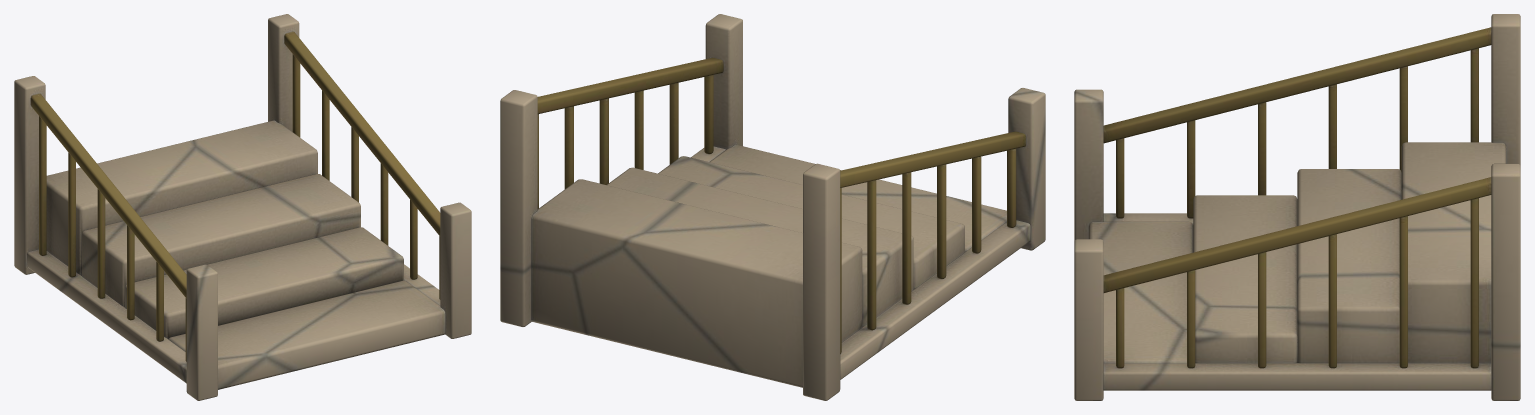
The model's file is marble_stairs.glb.
The picture shows the model from 3 angles, left to right: view 1: azimuth 30°, elevation 25°; view 2: azimuth 150°, elevation 25°; view 3: azimuth 270°, elevation 25°; orthographic projection. The views are drawn at different scales.
Parts seen in each view (by area): view 1: marble_stairs; view 2: marble_stairs; view 3: marble_stairs.
Part boxes in pixels (x1,y1,x2,y2): marble_stairs: (14,14,471,400); marble_stairs: (500,14,1045,400); marble_stairs: (1074,14,1520,400).
Bounding box in the file's own units: 1.84 × 1.2 × 2.14.
1 material, 1 textured.
